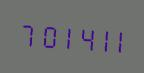four: (72, 20, 89, 54)
one: (54, 18, 71, 52), (90, 21, 107, 55), (108, 22, 125, 56)
seven: (17, 16, 34, 50)
zero: (35, 17, 52, 51)
